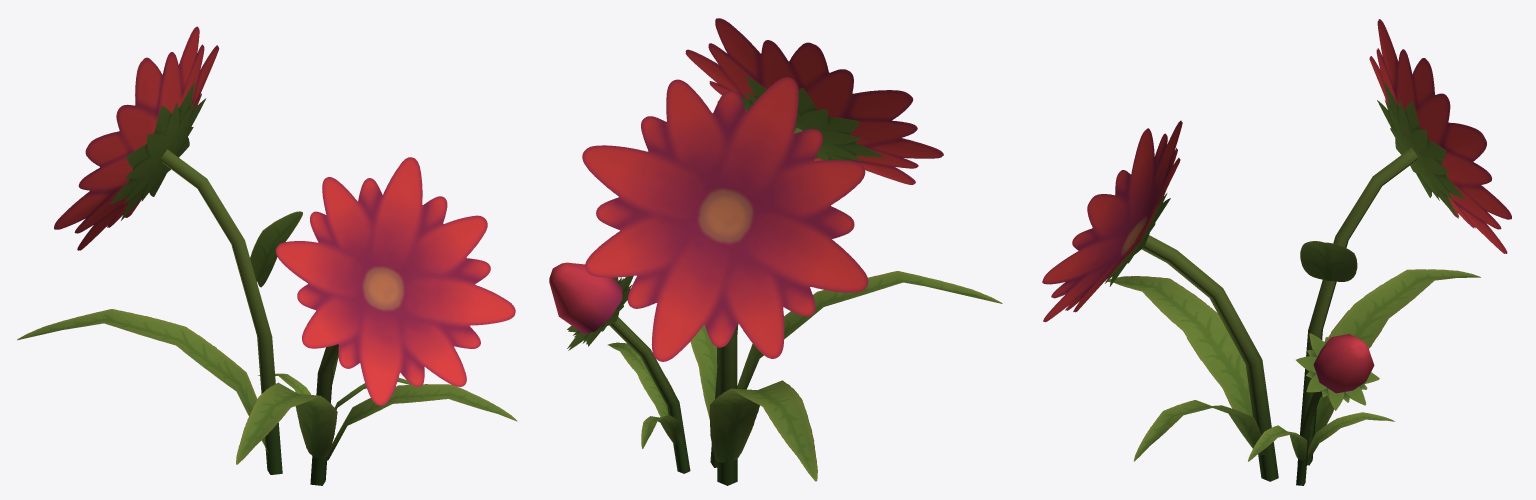
File: flowerR.fbx
3 views of the same model, side by side, from view 1: azimuth 30°, elevation 25°; view 2: azimuth 150°, elevation 25°; view 3: azimuth 270°, elevation 25° (orthographic). The views are drawn at different scales.
Visible parts, largest first — view 1: flower2_lod0_var2; view 2: flower2_lod0_var2; view 3: flower2_lod0_var2.
Part boxes in pixels (bbox=[...]): flower2_lod0_var2: bbox=[17, 26, 517, 485]; flower2_lod0_var2: bbox=[549, 18, 1002, 485]; flower2_lod0_var2: bbox=[1042, 19, 1511, 485].
Bounding box in the file's own units: 0.232 × 0.3005 × 0.2787.
Materials: 1 (1 with a texture image).
